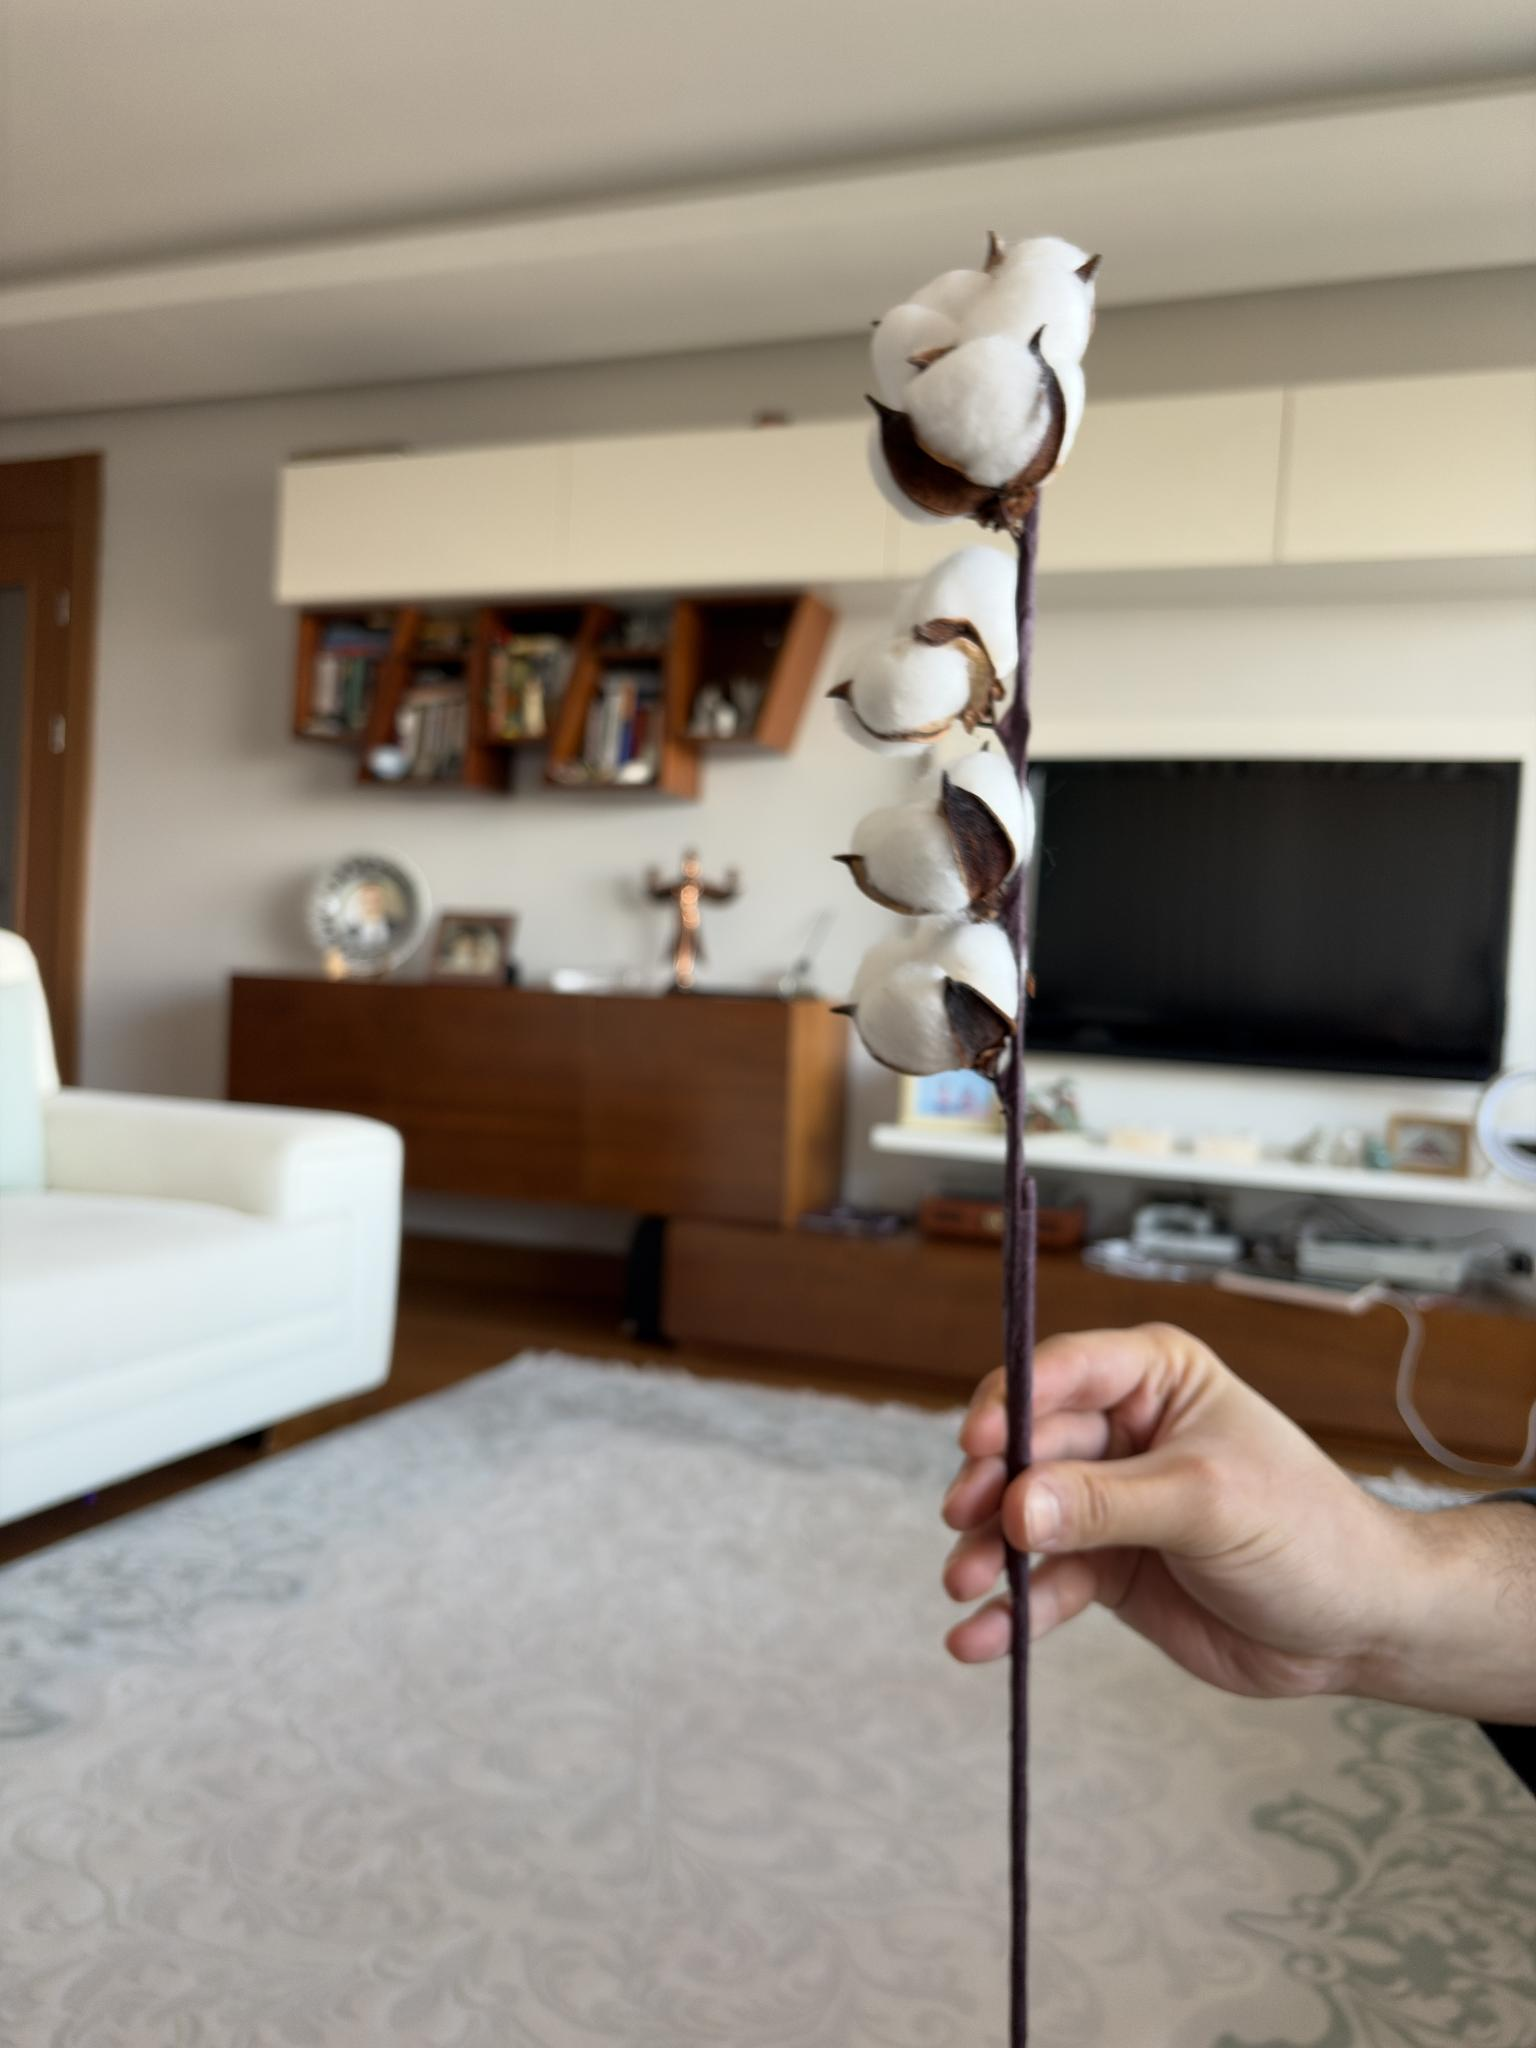cotton_boll: (905, 335, 1052, 485), (955, 237, 1099, 371), (895, 545, 1018, 682), (854, 798, 970, 914), (854, 959, 965, 1076), (849, 634, 970, 739), (945, 748, 1036, 880), (921, 919, 1018, 1029), (871, 302, 957, 408), (826, 685, 933, 758), (850, 919, 939, 1006), (868, 421, 941, 524), (908, 269, 987, 319), (1055, 360, 1086, 466)
cotton_boll-cluster: (858, 226, 1107, 537), (823, 542, 1028, 761), (850, 743, 1039, 922), (847, 914, 1025, 1080)
